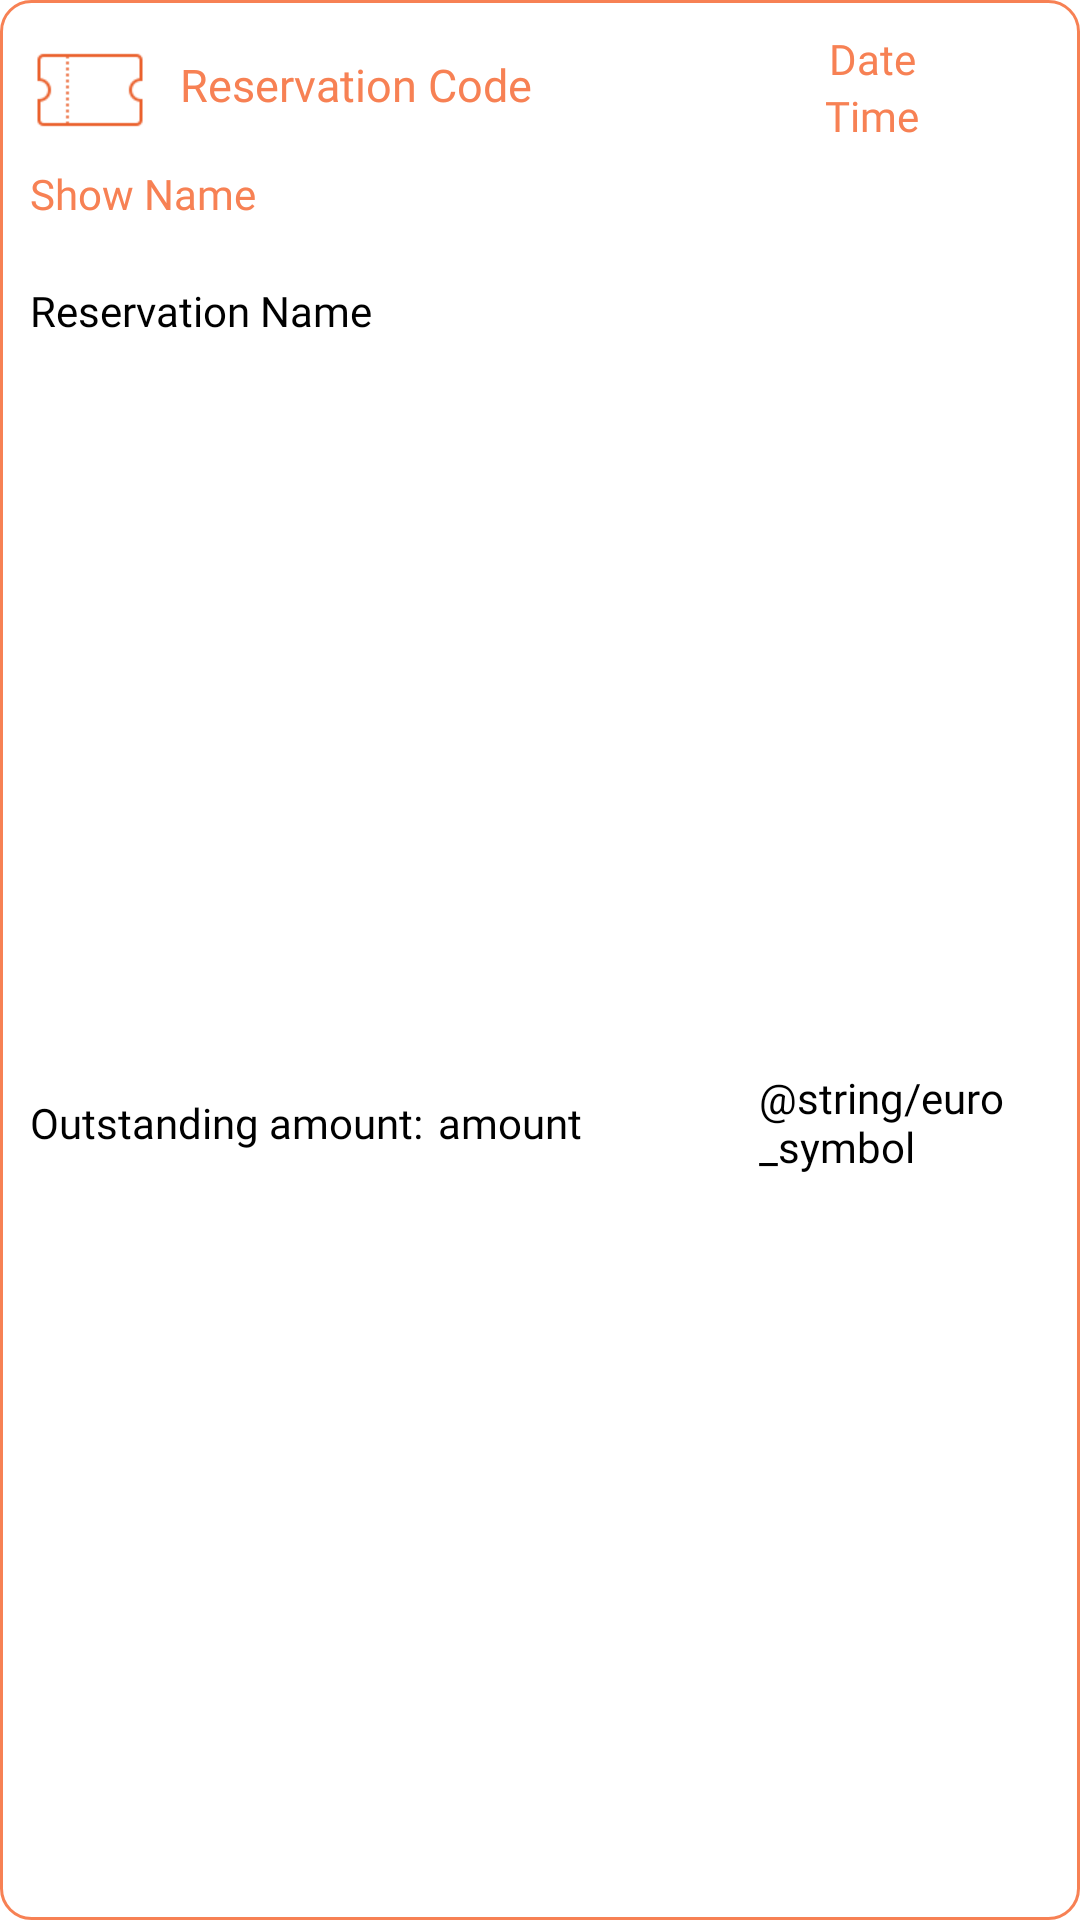

Icons on this 1080px×1920px Android screen, each with the point to tap as (x,y):
ticket: (90,90)
